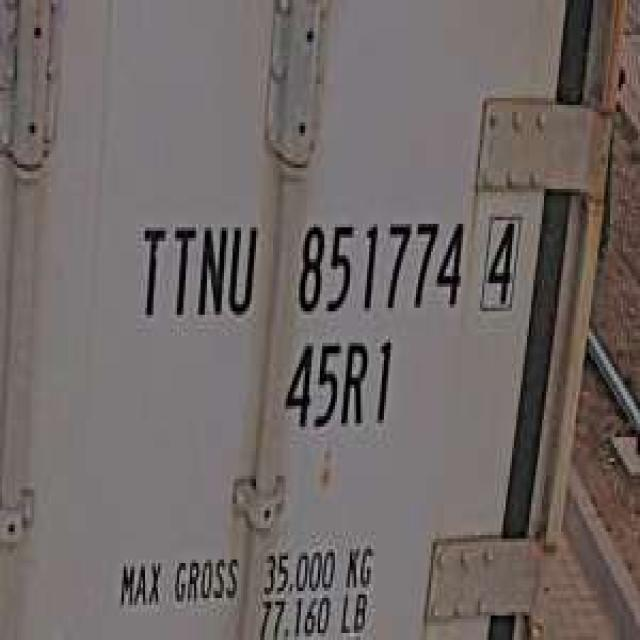dv: (476, 203, 525, 318)
owner: (132, 203, 260, 332)
serial: (290, 200, 467, 326)
size: (277, 328, 399, 441)
